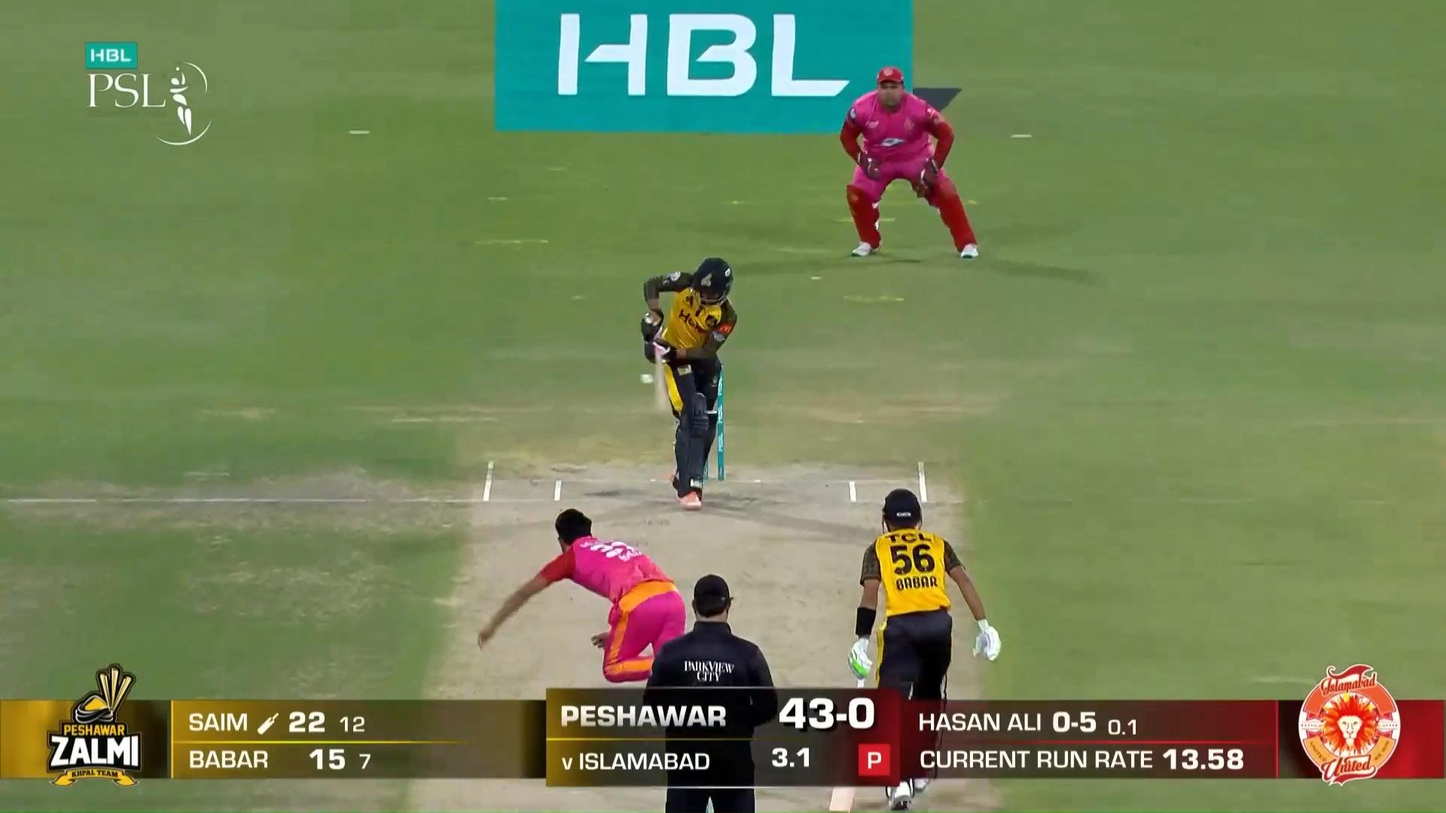batsman: (640, 257, 738, 509)
